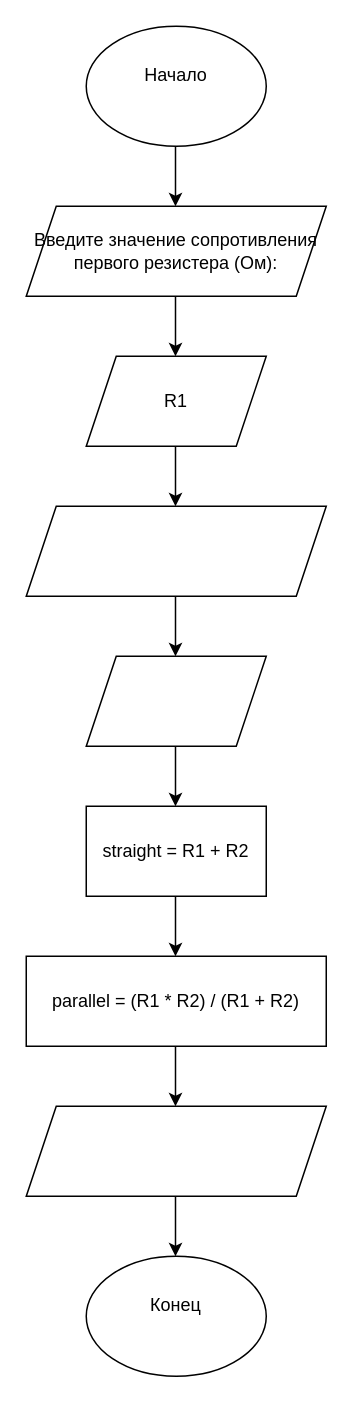
Some shapes in this 353 by 1403 pixel diagram are drawn without their labels. Here are the shapes that lost their labels. From the top down, the box of each, then its label:
(25, 505, 326, 596): Введите значение сопротивления второго резистера (Ом):
(85, 655, 266, 746): R2
(25, 1105, 326, 1196): straight, parallel
